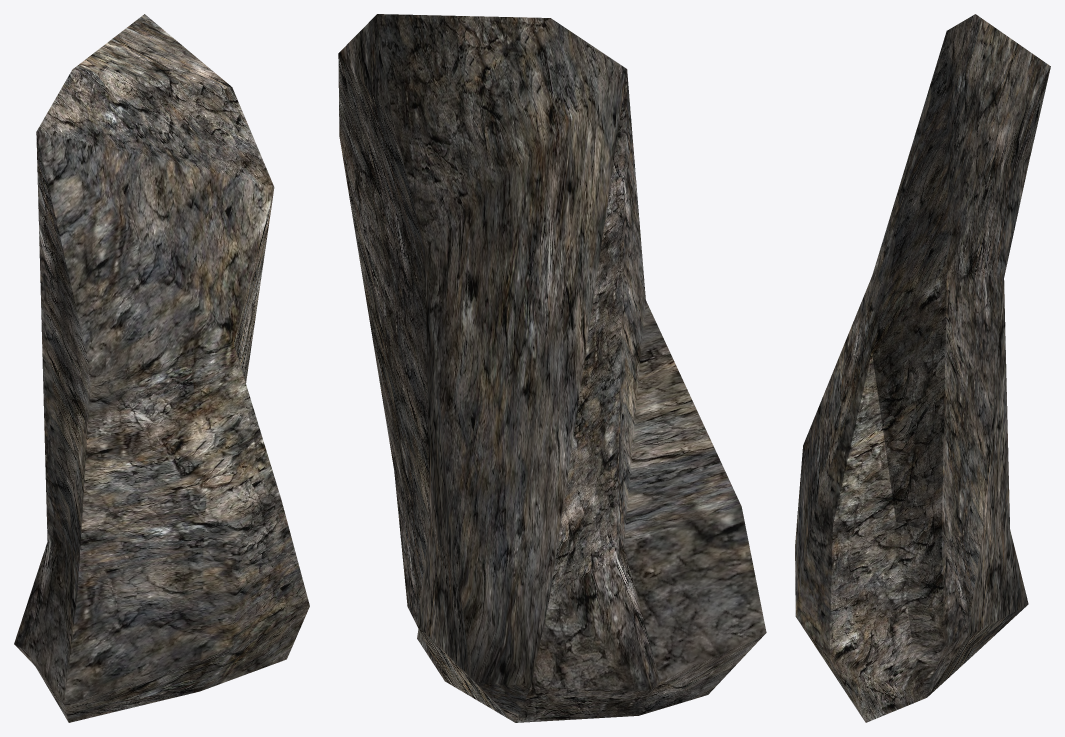
The model's file is pir_m_prp_cav_rock_a.fbx.
3 renders of one model, left to right at view 1: azimuth 30°, elevation 25°; view 2: azimuth 150°, elevation 25°; view 3: azimuth 270°, elevation 25°, orthographic. The views are drawn at different scales.
Parts seen in each view (by area): view 1: lod_high; view 2: lod_high; view 3: lod_high.
Boxes of the visible parts, x1,y1,x2,y2 form: lod_high: (14,14,309,722); lod_high: (338,14,766,722); lod_high: (795,14,1050,722).
Size of the model in its own units: 1352 by 2734 by 1007.
Materials: 1 (1 with a texture image).
